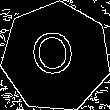O_S: (31, 29, 81, 85)
